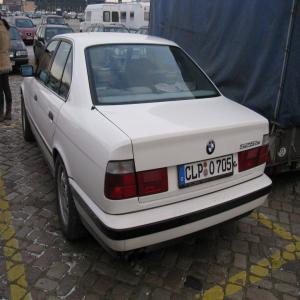Vehicle-registration-plate: (180, 155, 235, 189), (11, 63, 16, 66), (27, 38, 34, 40)
